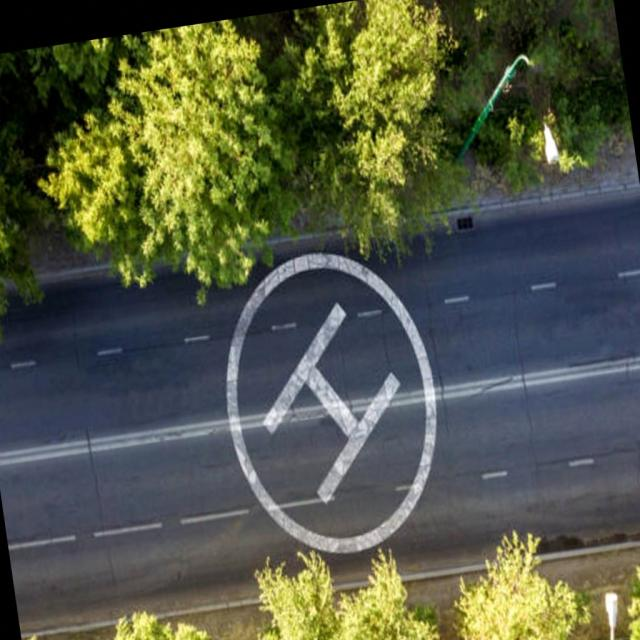helipad: (217, 246, 444, 556)
